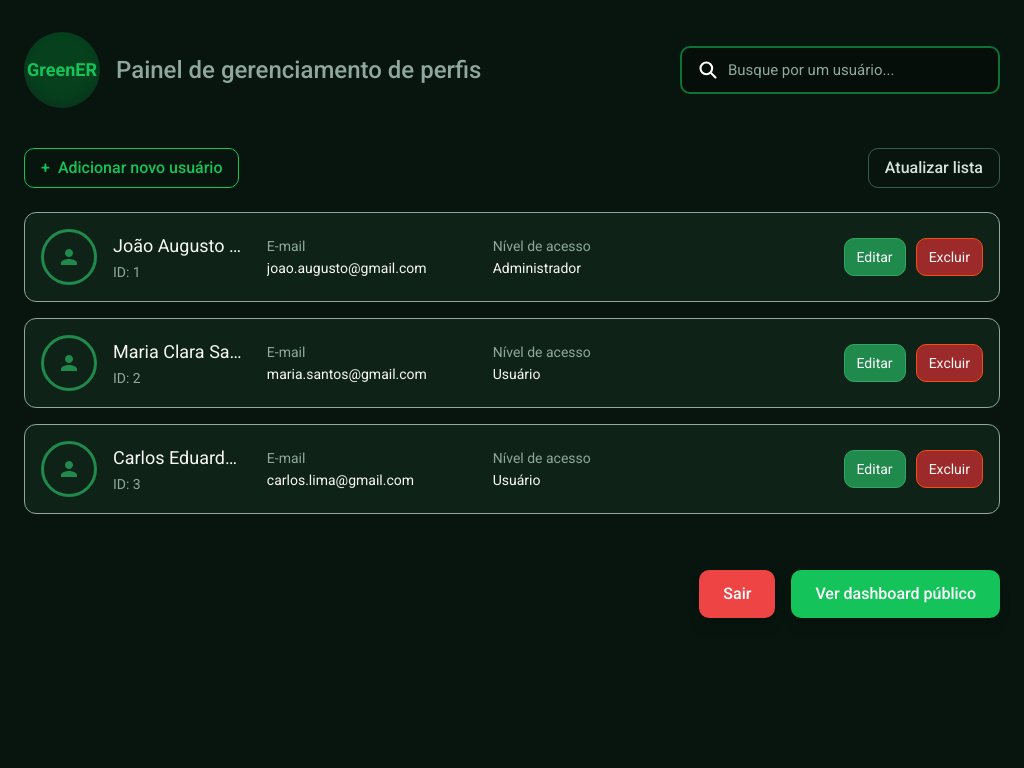
Scenario: painel administrativo integrado › permite editar usuário com PATCH na API
Click the button with aria-label "Editar usuário João Augusto de Souza".
click(875, 257)  # box [844,238,906,276]
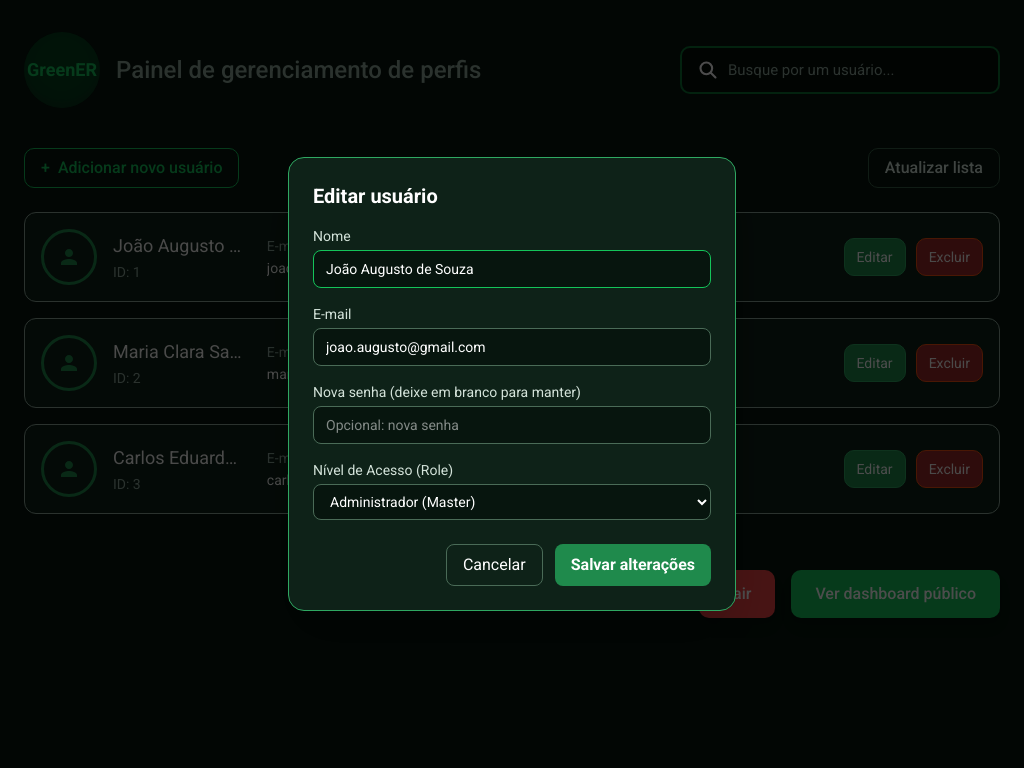
Result: the dialog is shown
Replace the text in the field showing "João Augusto de Souza" with "João Editado" at (512, 269), box [313,250,711,288]
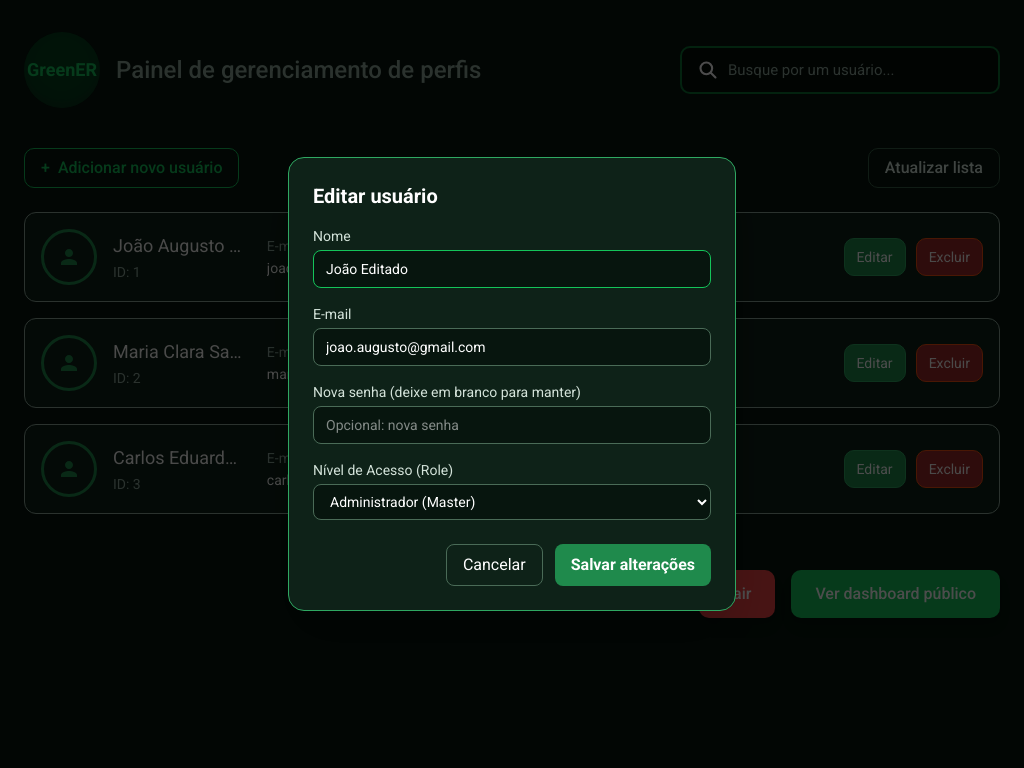
Click the button "Salvar alterações".
click(633, 565)  # box [555,544,711,586]
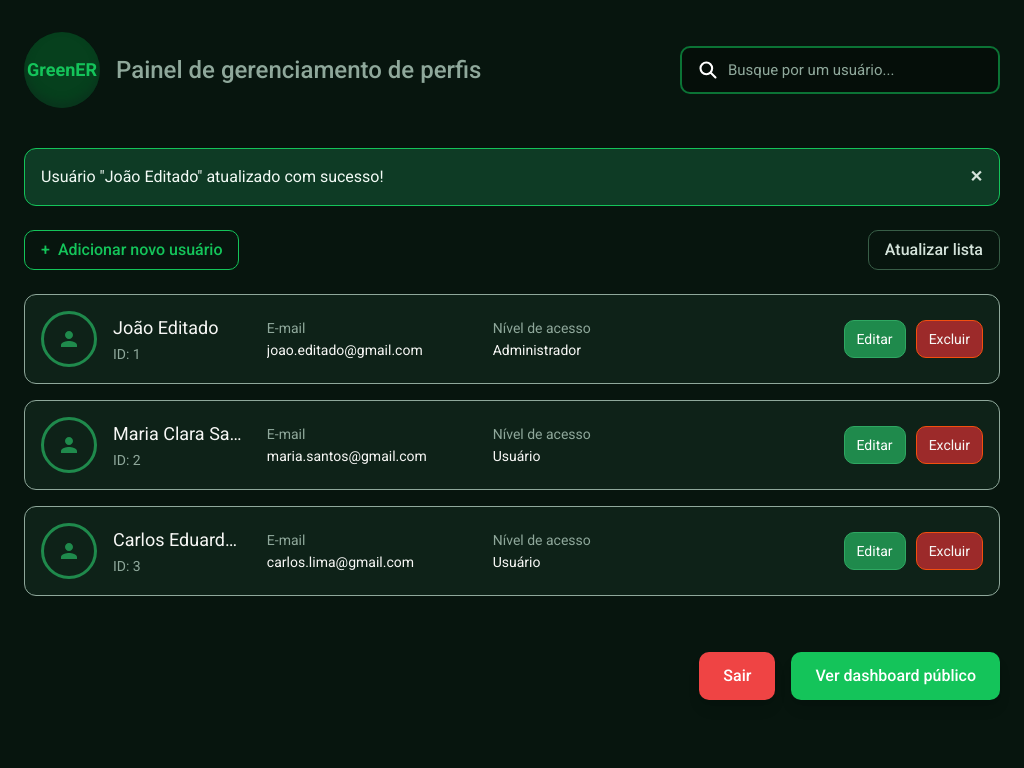
Result: the message shows "atualizado com sucesso" at [41,167,384,186]
